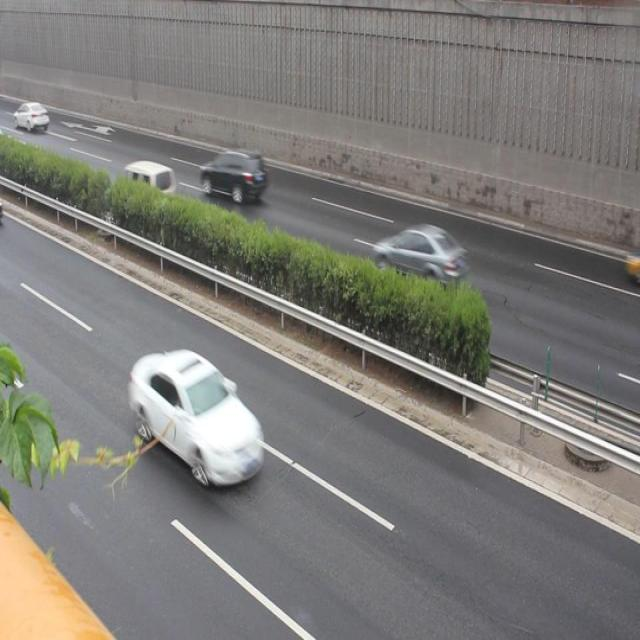car: (130, 348, 266, 484), (371, 222, 468, 298), (199, 148, 266, 208)
truck: (113, 158, 175, 215)
